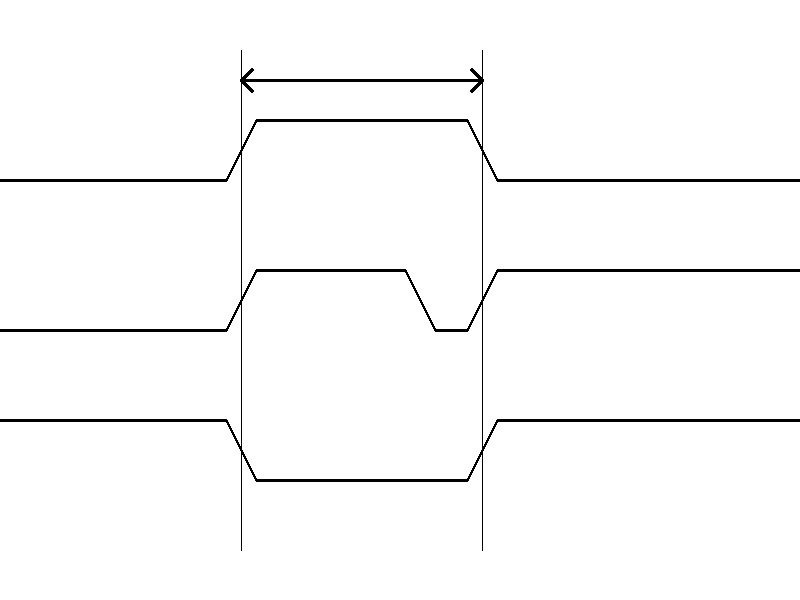double_arrow: (241, 65, 482, 95)
